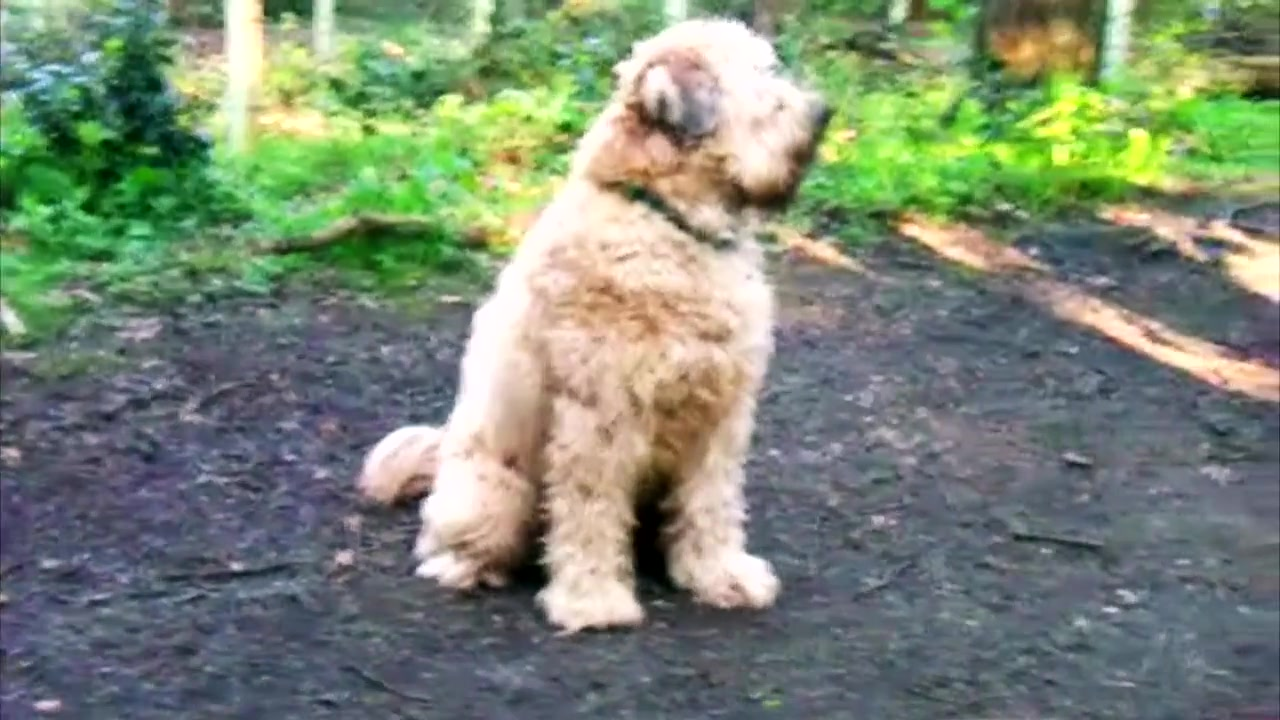dog: (357, 16, 838, 640)
